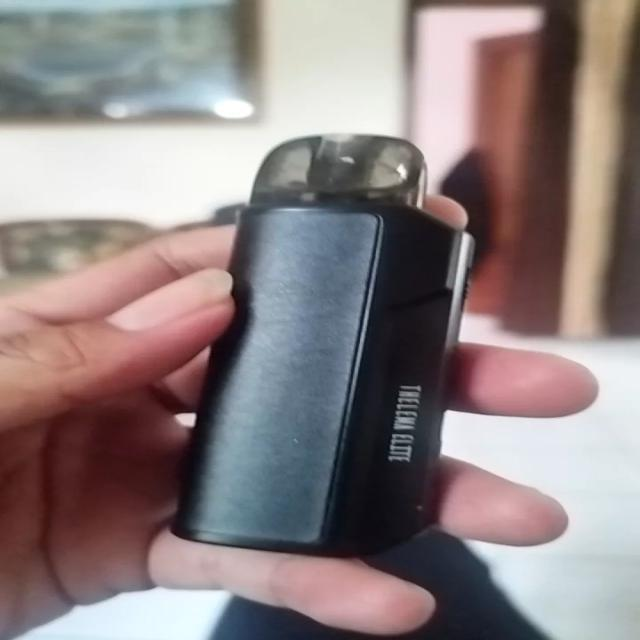Hazard: (166, 130, 477, 560)
